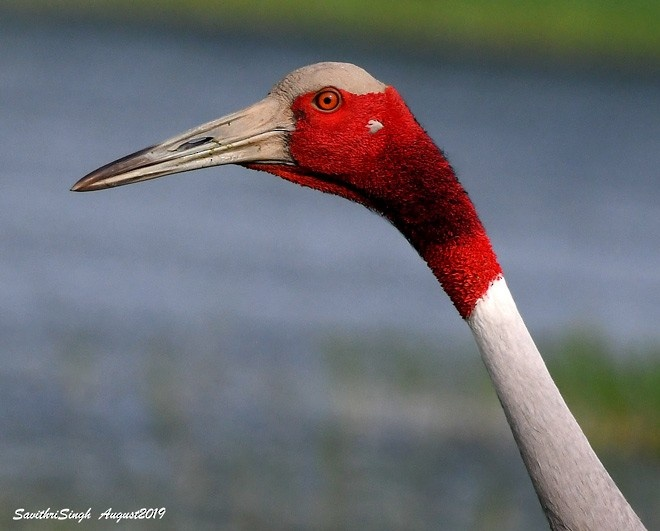crane: (62, 58, 660, 531)
